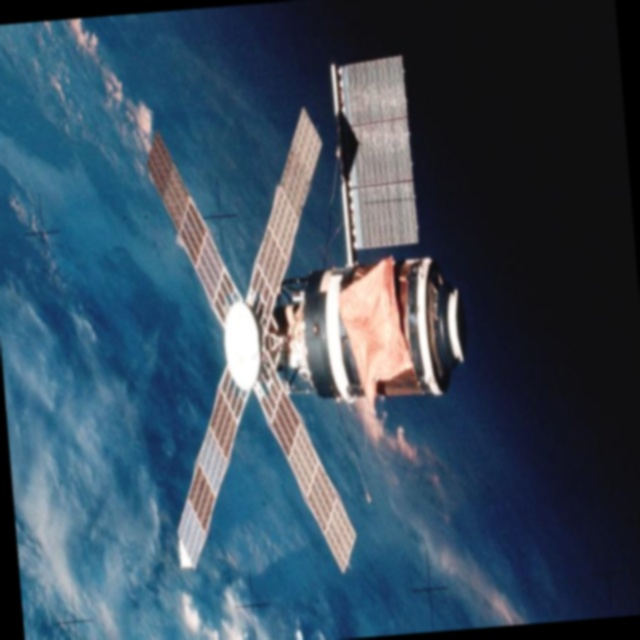satellite: (132, 49, 488, 594)
